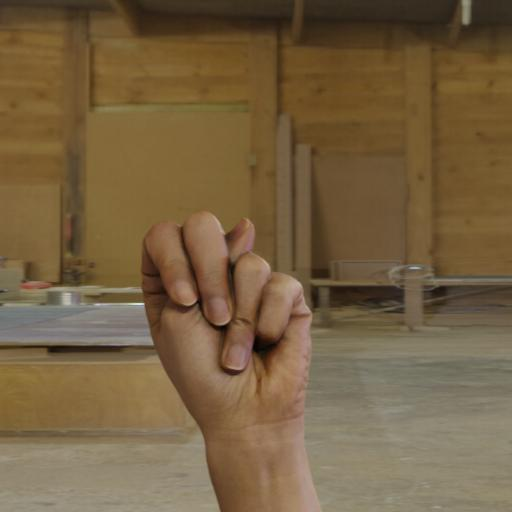N: (108, 170, 364, 442)
